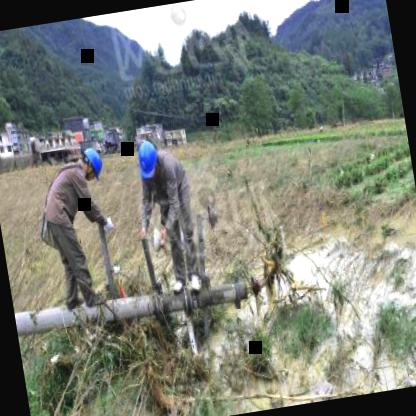helmet: (133, 133, 162, 182), (75, 142, 108, 184)
